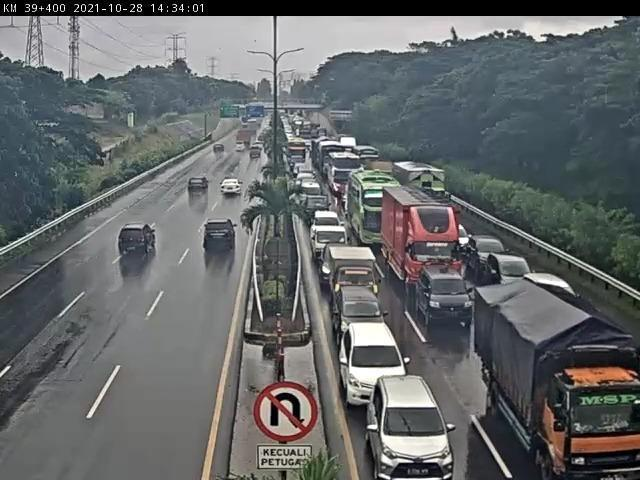bus: (349, 172, 402, 248), (323, 152, 363, 194)
car: (362, 368, 453, 478), (336, 323, 411, 405), (568, 306, 632, 381), (417, 263, 473, 329), (323, 247, 385, 305), (328, 287, 390, 344), (311, 223, 352, 265), (467, 236, 509, 271), (120, 224, 159, 259), (488, 254, 531, 282), (204, 219, 239, 253), (299, 195, 331, 225), (448, 222, 471, 253), (297, 179, 321, 200), (313, 209, 341, 227), (221, 178, 247, 197), (188, 177, 211, 198), (249, 146, 265, 165), (211, 140, 228, 156), (295, 168, 313, 183), (234, 141, 249, 157)
truck: (469, 273, 622, 450), (382, 186, 461, 296), (393, 160, 457, 214)
